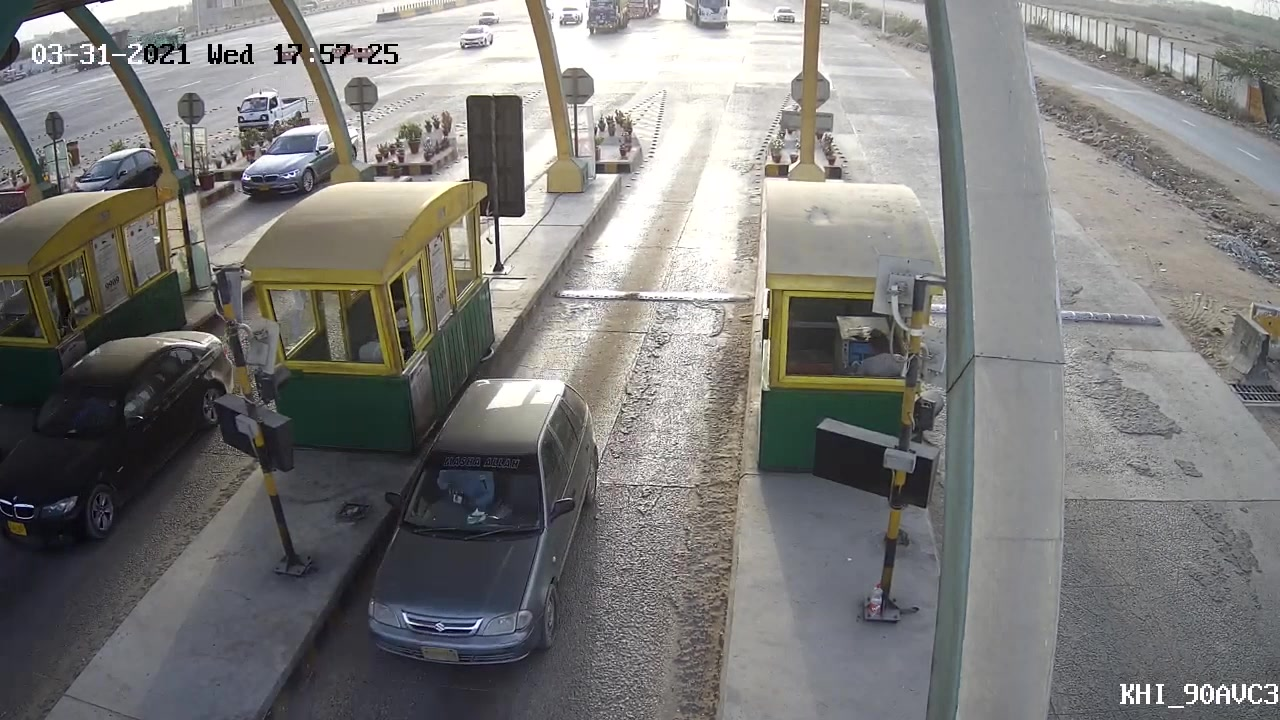F1: (359, 364, 609, 671)
